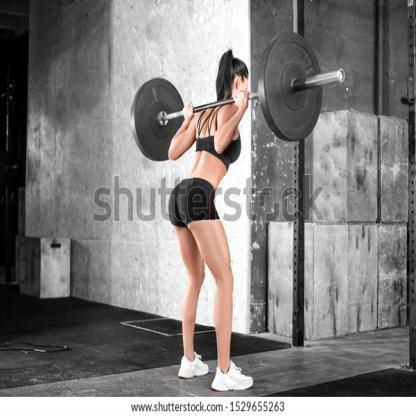barbell: (127, 28, 347, 165)
